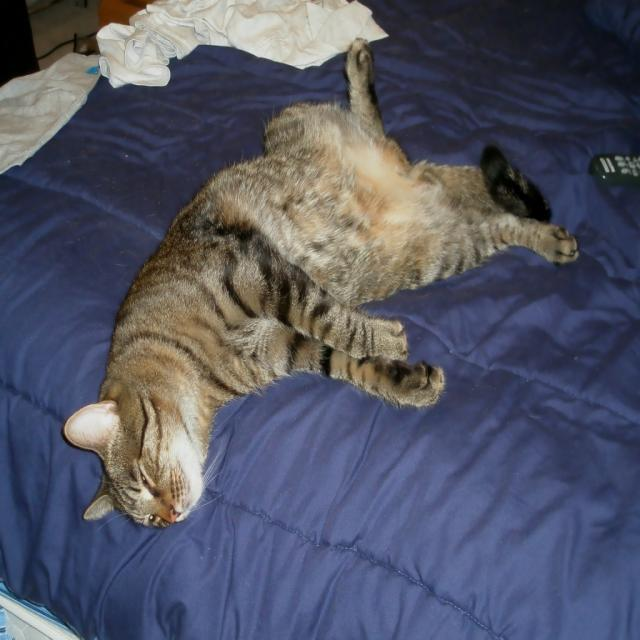Cat: (64, 28, 584, 532)
